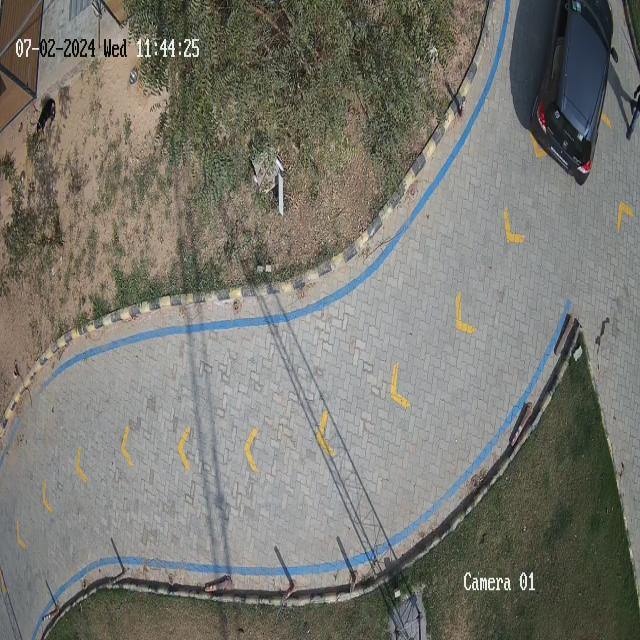car: (531, 0, 618, 184)
